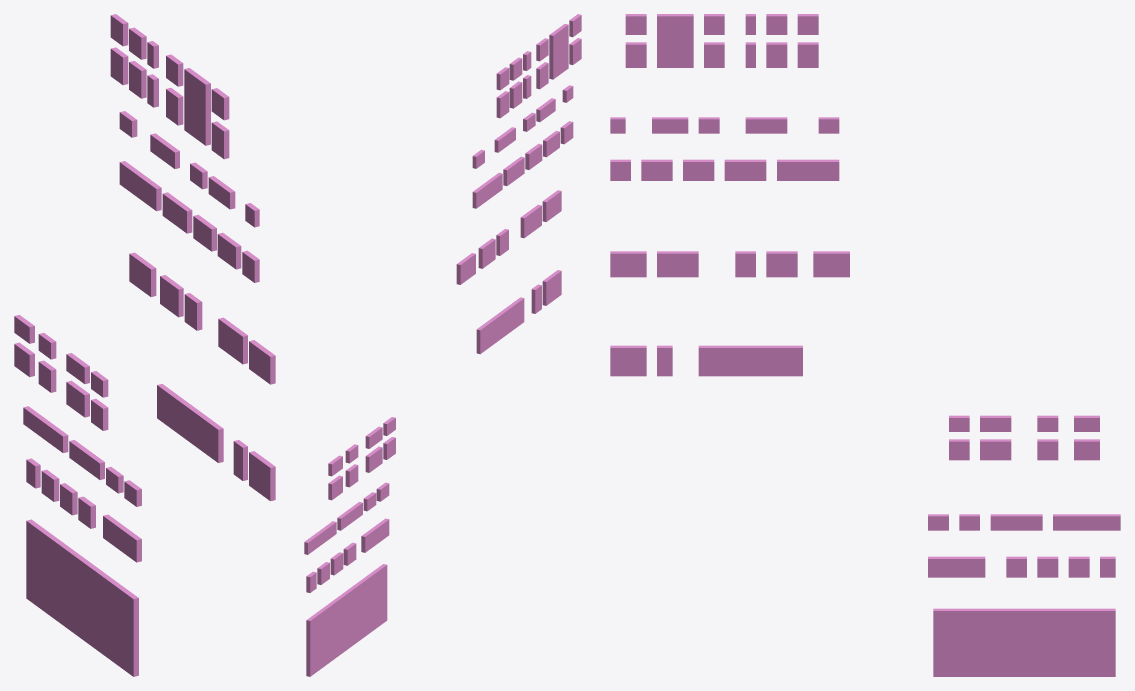
Rendered from SideBuildings3-1.obj.
The picture shows the model from 3 angles, left to right: view 1: azimuth 30°, elevation 25°; view 2: azimuth 150°, elevation 25°; view 3: azimuth 270°, elevation 25°; orthographic projection. The views are drawn at different scales.
Bounding box in the file's own units: 1.8 × 13.2 × 9.8.
Materials: 1 (1 with a texture image).
